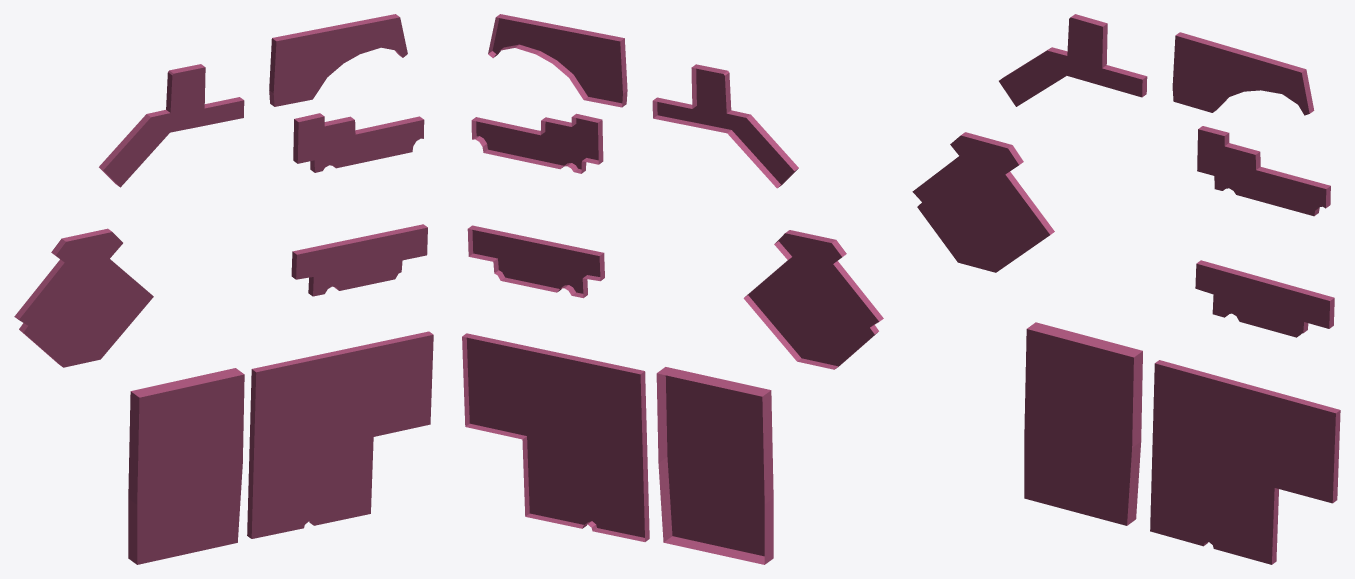
File: buildings_k12.obj
3 renders of one model, left to right at view 1: azimuth 30°, elevation 25°; view 2: azimuth 150°, elevation 25°; view 3: azimuth 330°, elevation 25°, orthographic. The views are drawn at different scales.
Parts seen in each view (by area): view 1: roof1, zone1; view 2: roof1, zone1; view 3: roof1, zone1.
Boxes of the visible parts, x1,y1,x2,y2 form: roof1: (19, 17, 433, 564); zone1: (14, 14, 433, 564); roof1: (466, 18, 878, 556); zone1: (462, 14, 883, 564); roof1: (912, 17, 1335, 564); zone1: (961, 14, 1340, 564).
Bounding box in the file's own units: 228 × 260 × 8.5.
